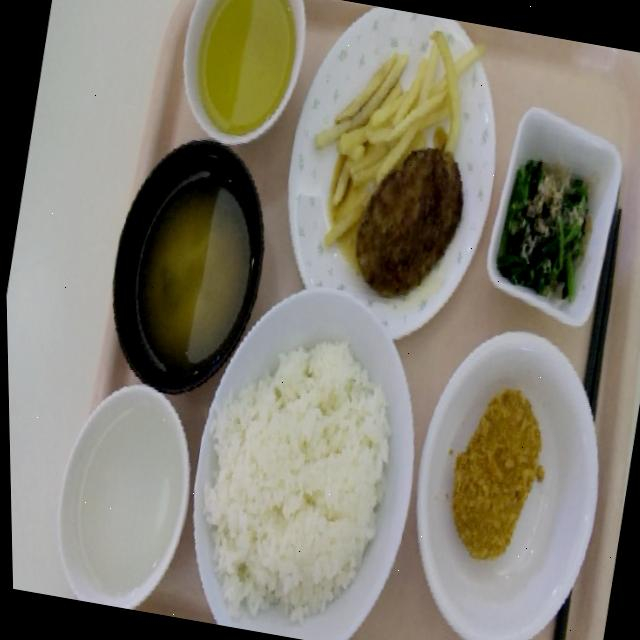汤锅炖物: (83, 120, 294, 410)
炸货点心: (288, 7, 484, 272)
米饭主食: (164, 264, 458, 640)
